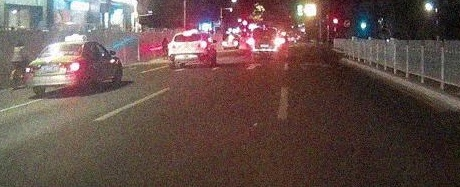L_light: (26, 66, 41, 74), (168, 44, 175, 49)
R_light: (61, 62, 80, 71), (200, 42, 208, 48)
T_light: (62, 44, 69, 46), (184, 34, 191, 36)
night-brake: (167, 32, 210, 69)
night-right: (25, 41, 88, 99)
